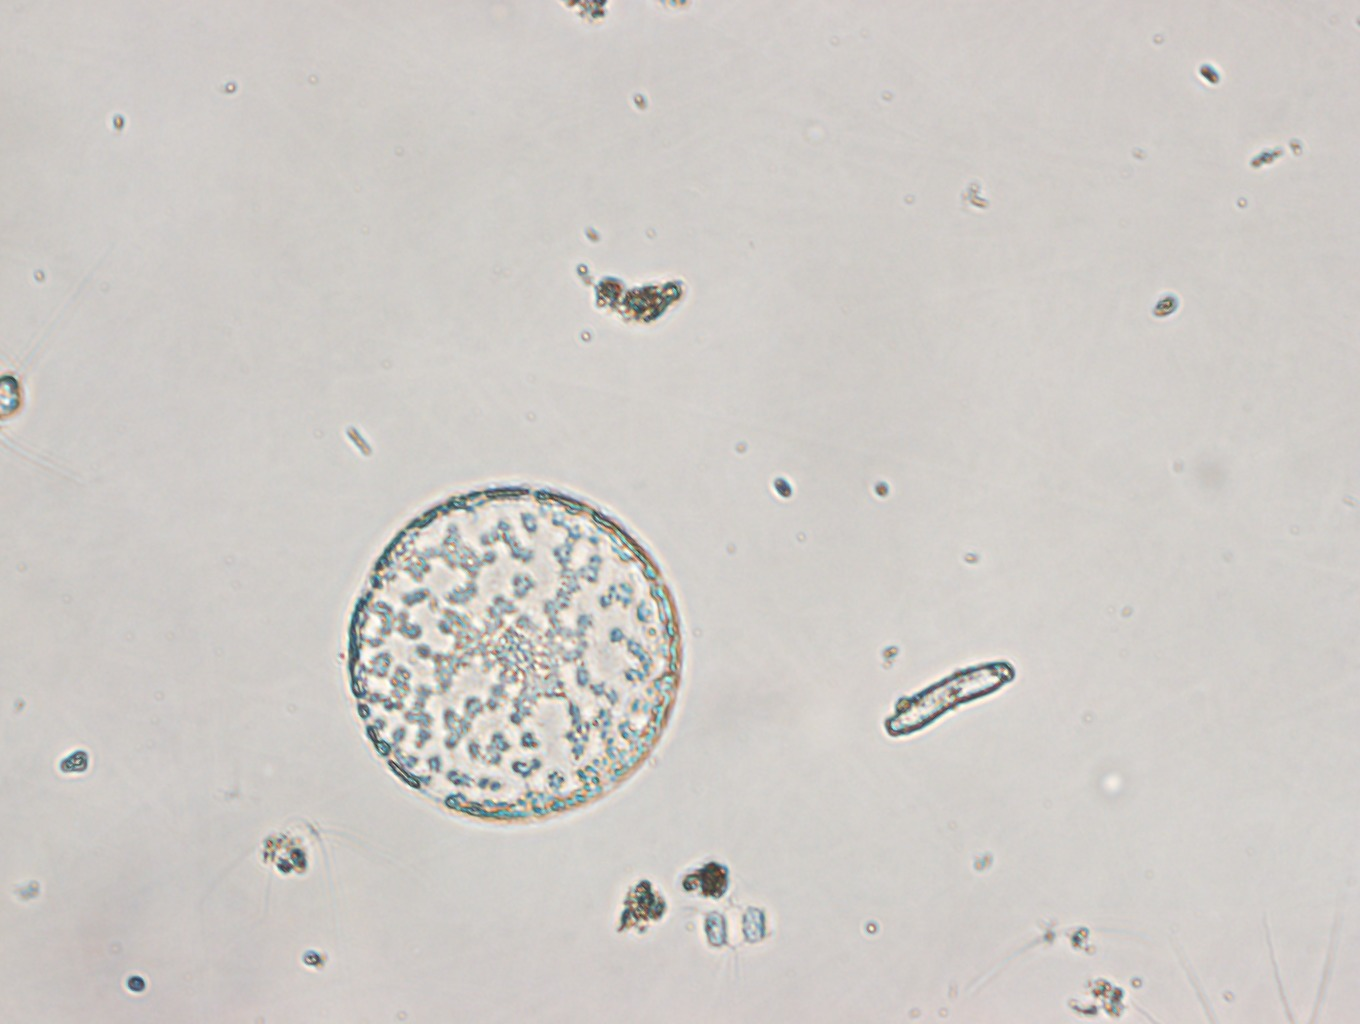coscinodiscus: (343, 482, 683, 822)
